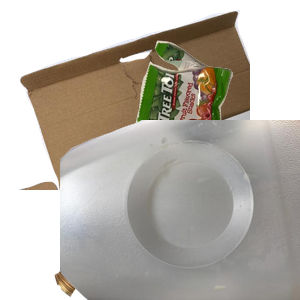cardboard: (16, 10, 256, 190)
glass: (52, 147, 292, 300)
plastic: (60, 120, 300, 300)
trash: (131, 38, 300, 182)
